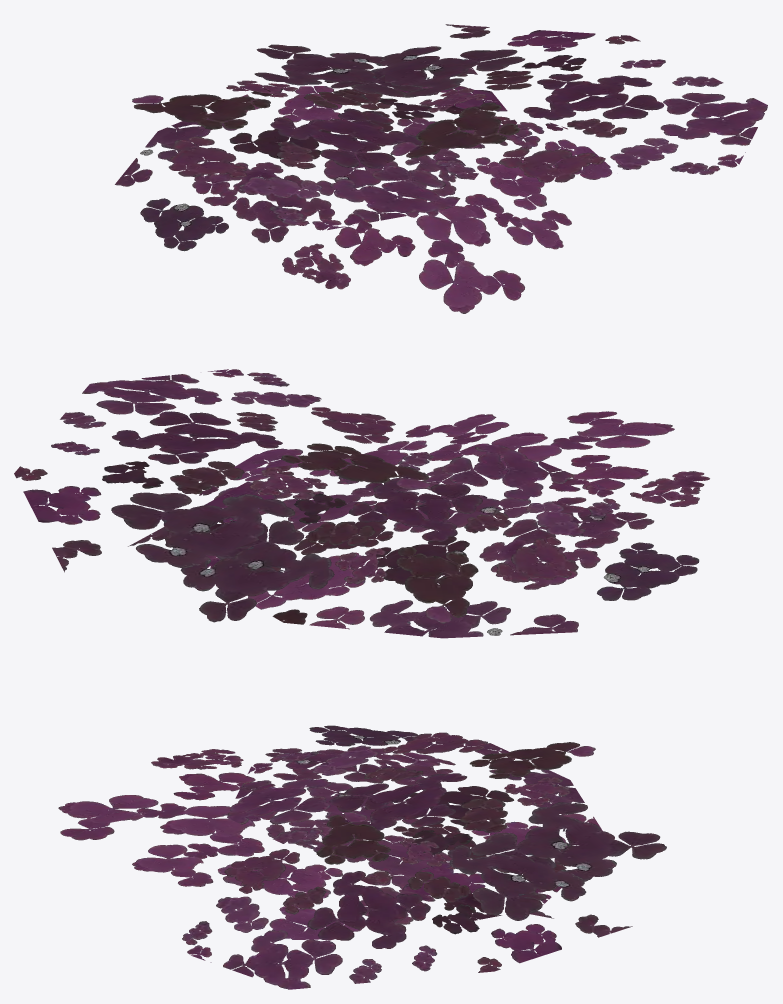
The picture shows the model from 3 angles, top to bottom: view 1: azimuth 30°, elevation 25°; view 2: azimuth 150°, elevation 25°; view 3: azimuth 270°, elevation 25°; orthographic projection. The views are drawn at different scales.
Parts seen in each view (by area): view 1: SM_GF_Sorrel_01_B_LOD0; view 2: SM_GF_Sorrel_01_B_LOD0; view 3: SM_GF_Sorrel_01_B_LOD0.
Part boxes in pixels (x1=…): SM_GF_Sorrel_01_B_LOD0: x1=115, y1=24, x2=767, y2=313; SM_GF_Sorrel_01_B_LOD0: x1=14, y1=369, x2=709, y2=638; SM_GF_Sorrel_01_B_LOD0: x1=58, y1=725, x2=666, y2=989.
Size of the model in its own units: 1.2 by 0.1087 by 1.29.
Materials: 1 (1 with a texture image).
